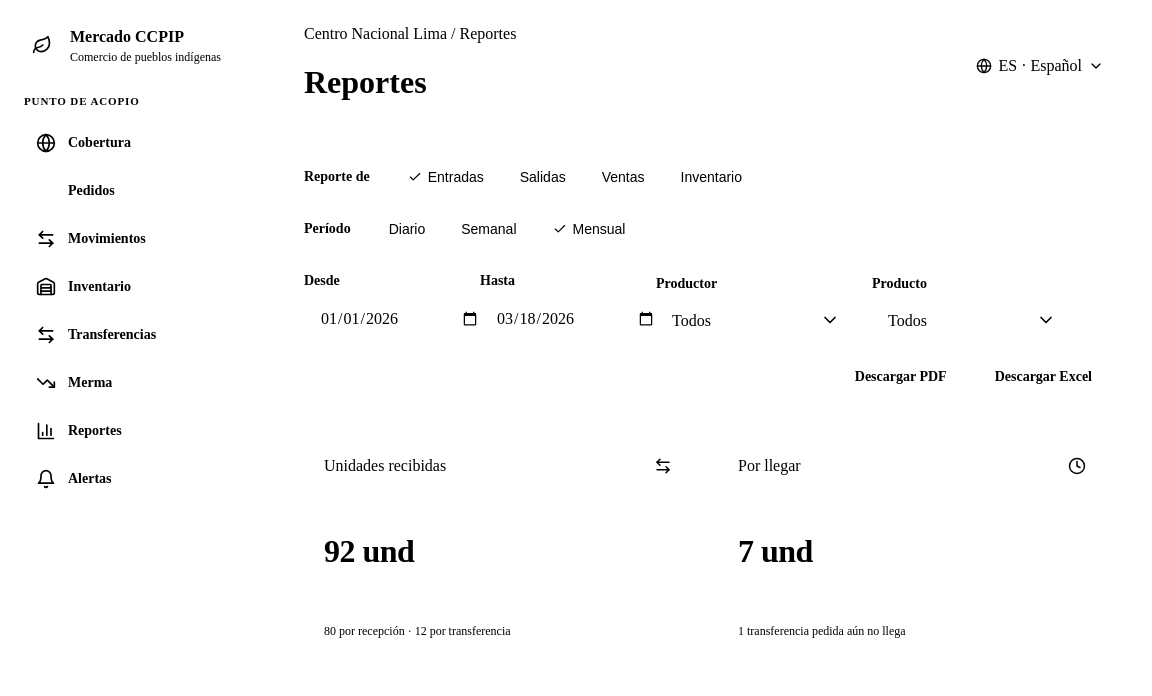
Test case: A-06 Reportes del punto de acopio › CCPIP-343: el inventario explica cada saldo y cuenta lo vendido que sigue en el punto
Click the button "Inventario".
click(711, 177)  # box top-left (666, 159), bottom-right (756, 195)
(page scrolled)
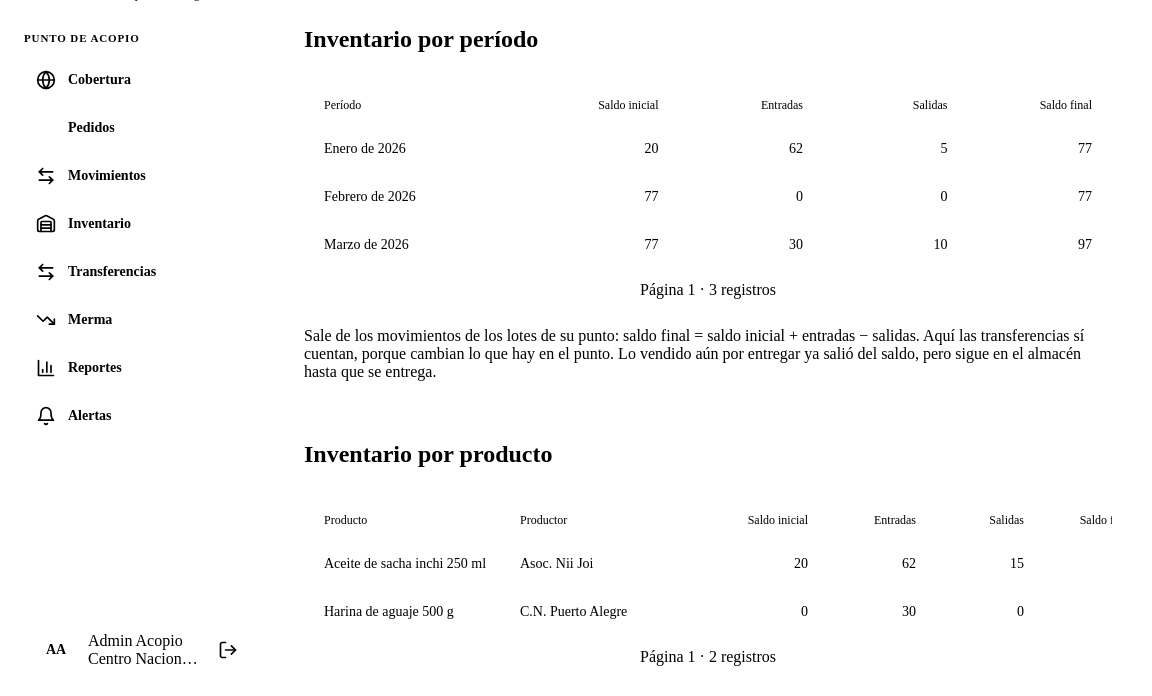
Expected: the text "las transferencias sí cuentan" is shown, top-left (304, 327), bottom-right (1084, 380)
